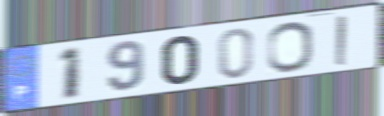0: (159, 33, 202, 86), (215, 26, 255, 81)
1: (57, 45, 84, 101)
9: (105, 38, 146, 95)
I: (333, 13, 350, 68)
O: (266, 20, 316, 74)
